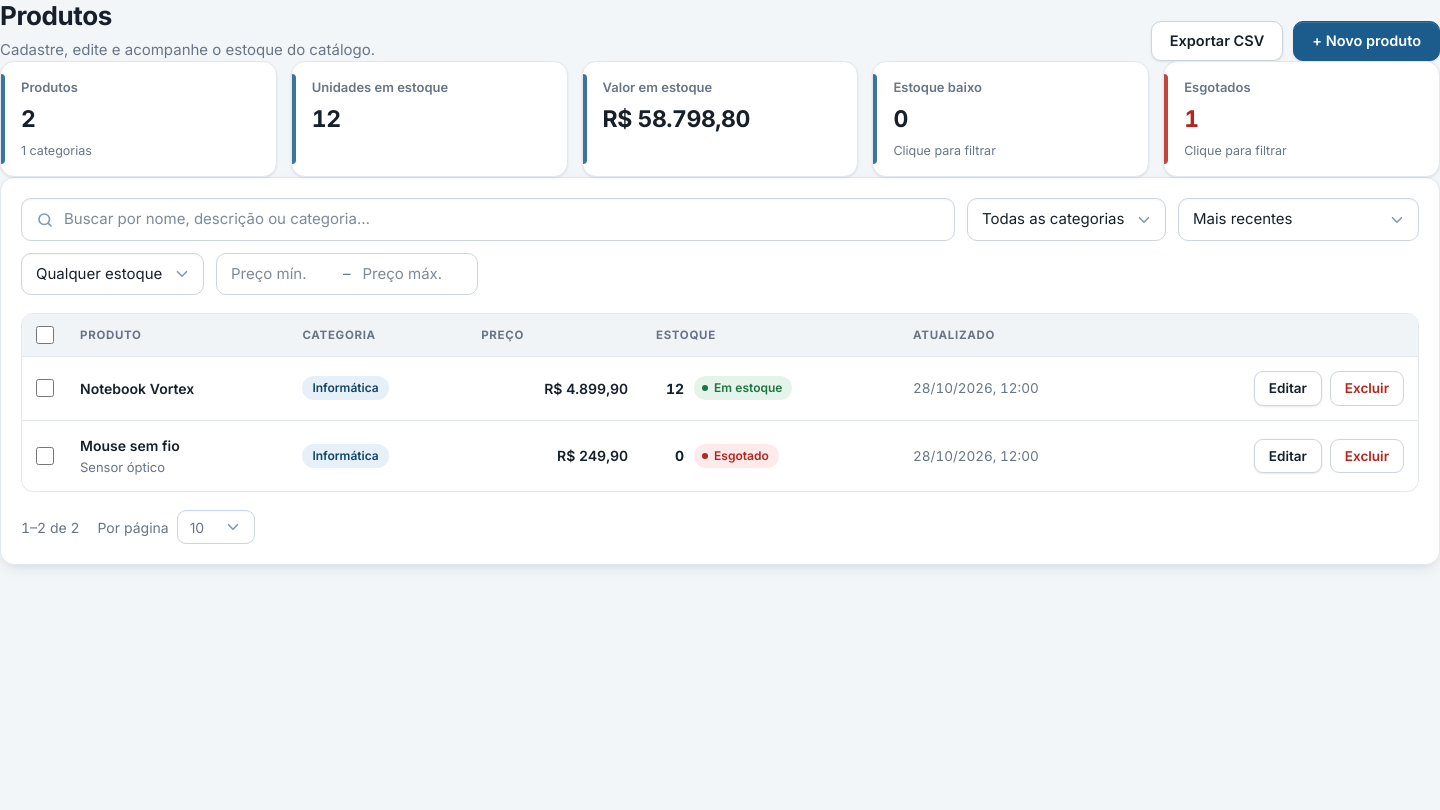
Test: ProductList › cancelar a confirmação não exclui nada
Expected: the text "Notebook Vortex" is shown, x1=80 y1=380 x2=194 y2=397
Click the button with aria-label "Excluir Notebook Vortex": (1367, 388) x1=1330 y1=371 x2=1404 y2=406
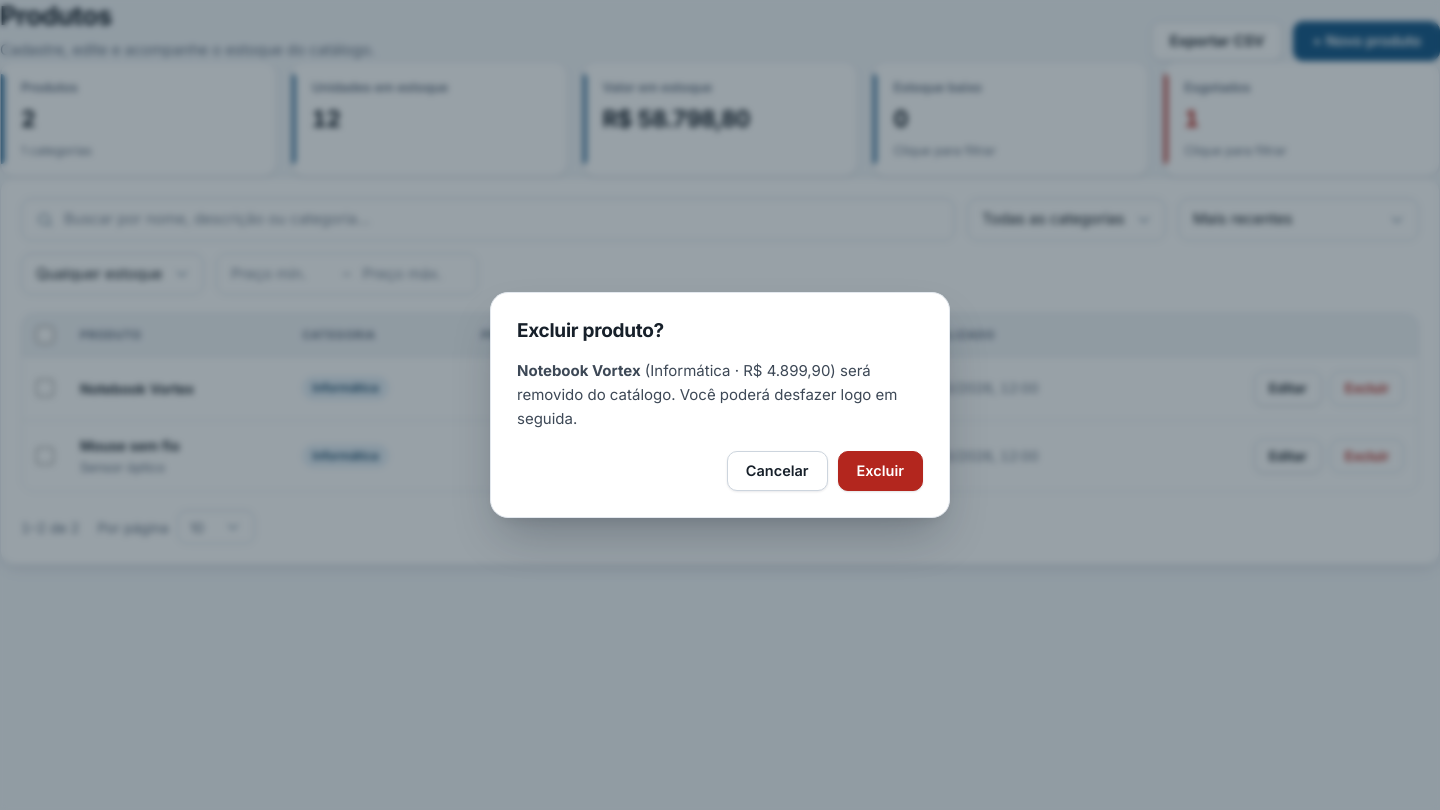
Click the button "Cancelar": (777, 471) x1=727 y1=451 x2=828 y2=491
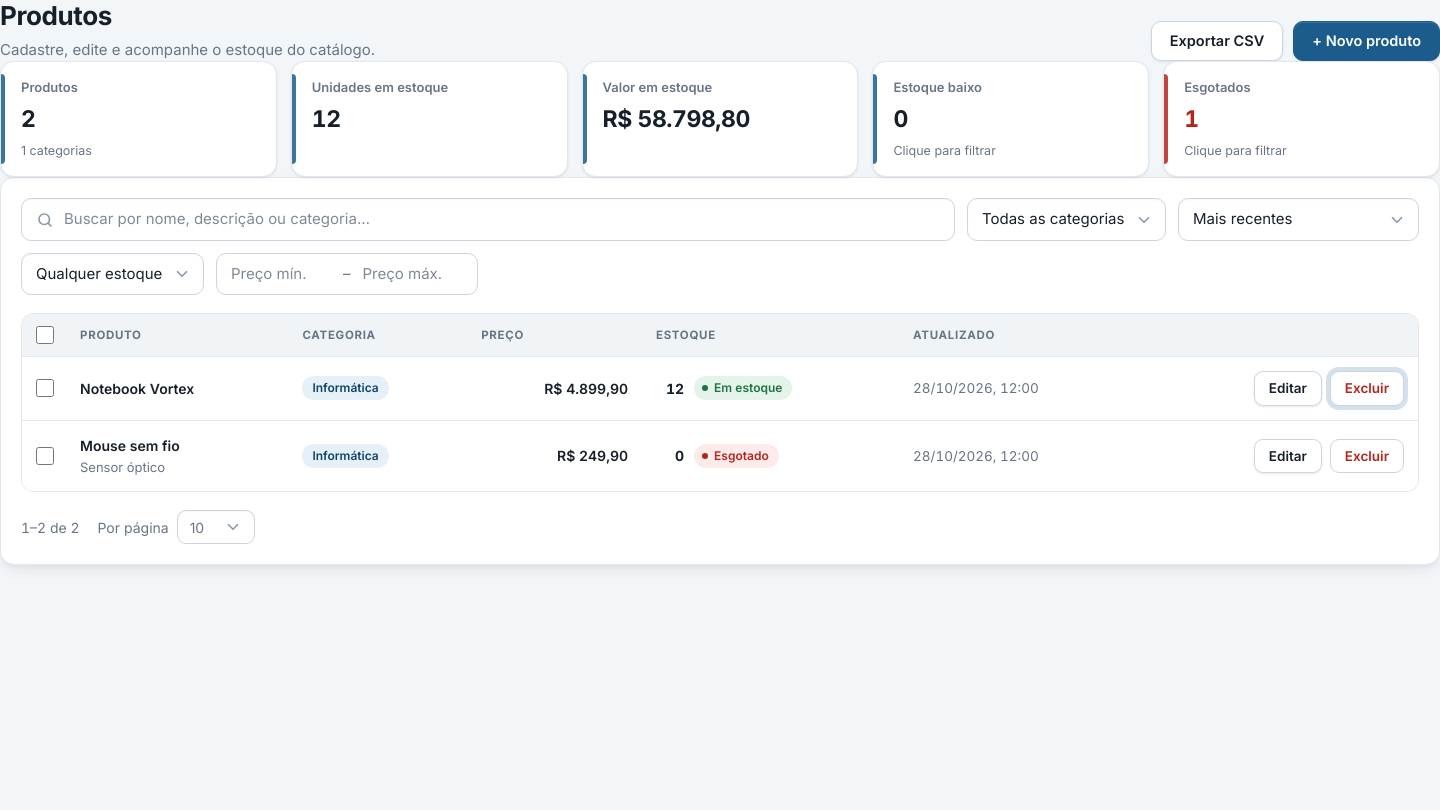
Now the dialog is gone
